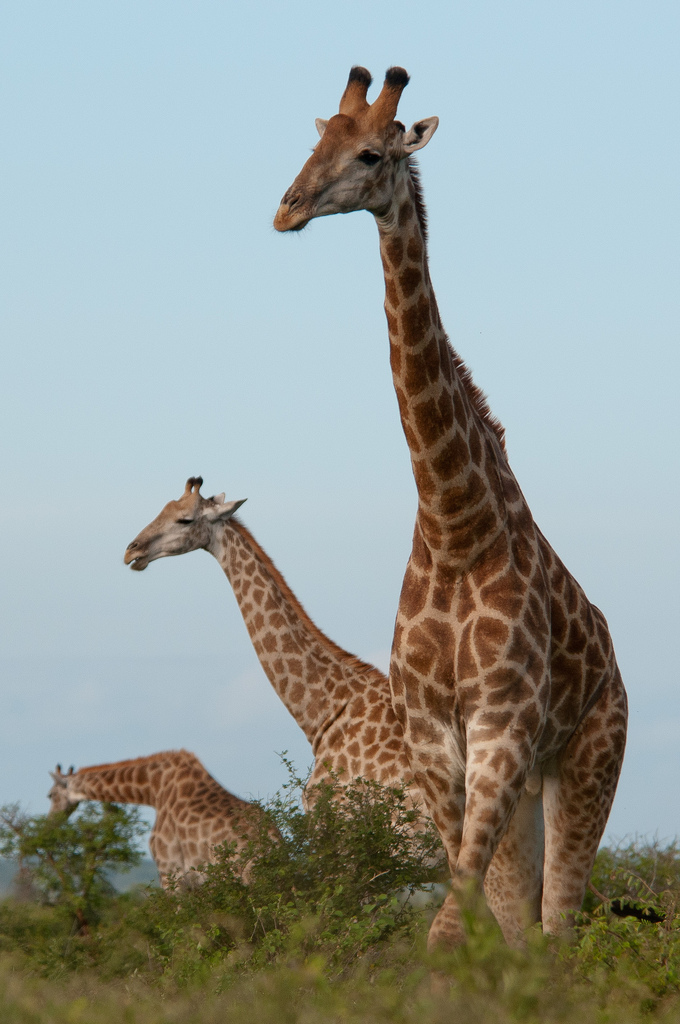giraffe: (269, 55, 649, 955), (134, 443, 404, 825), (35, 743, 335, 906)
